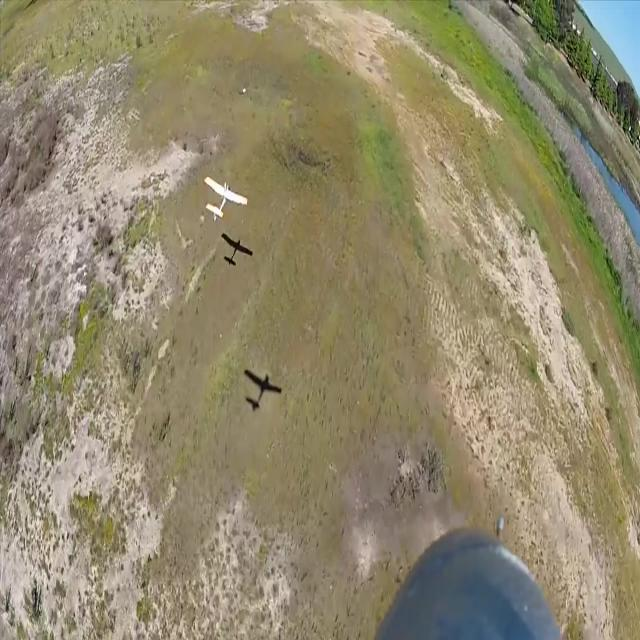iha: (204, 168, 249, 216)
